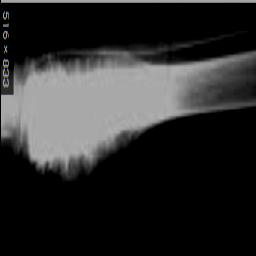cancer: (8, 47, 220, 190)
